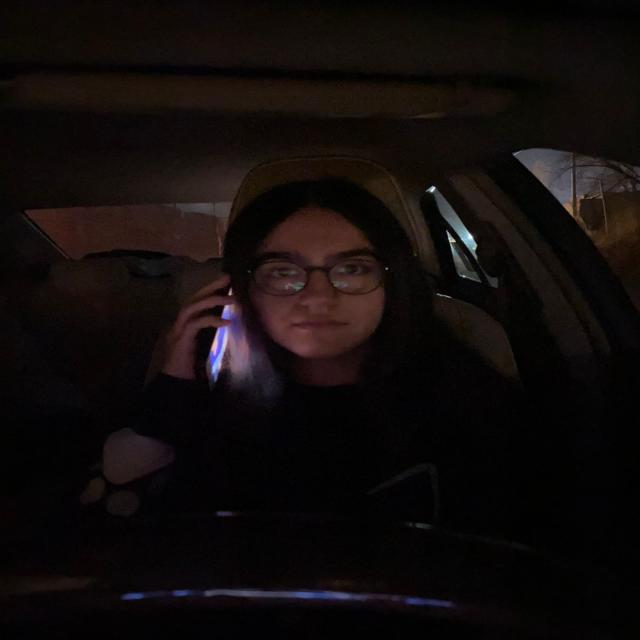phone: (197, 282, 246, 390)
